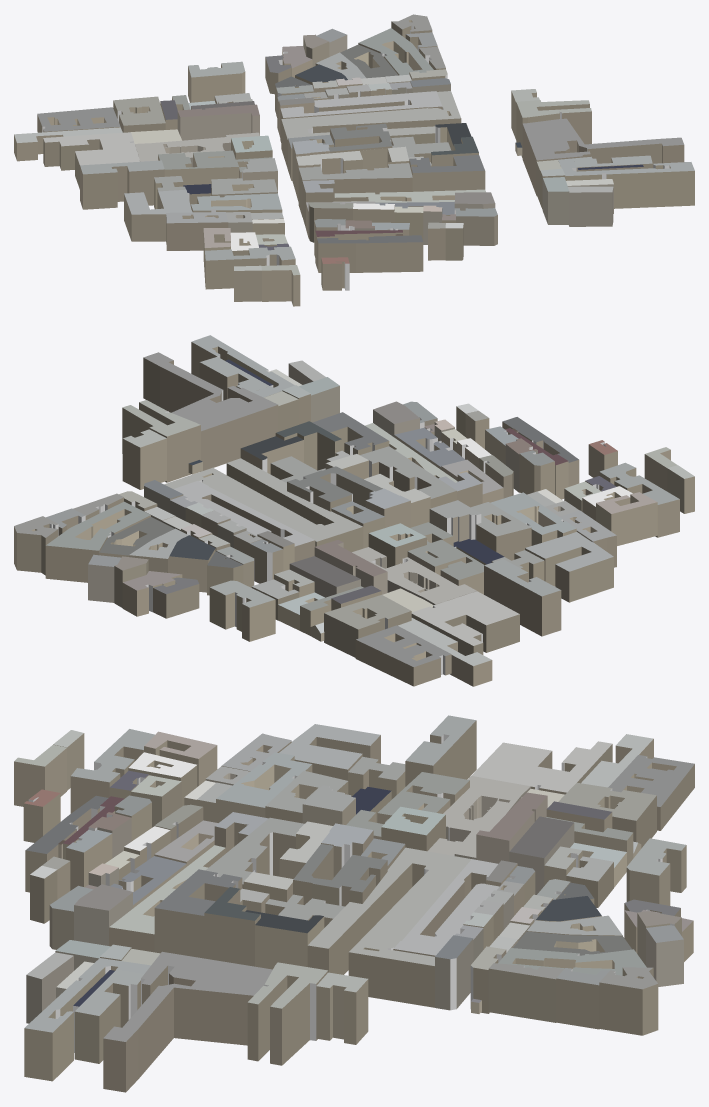
3 views of the same model, one above another, from view 1: azimuth 30°, elevation 25°; view 2: azimuth 150°, elevation 25°; view 3: azimuth 270°, elevation 25° (orthographic). The views are drawn at different scales.
Visible parts, largest first — view 1: tuile; view 2: tuile; view 3: tuile.
Boxes of the visible parts, left/top/right/bottom form: tuile: left=14, top=14, right=694, bottom=306; tuile: left=14, top=335, right=694, bottom=686; tuile: left=14, top=715, right=694, bottom=1092.
Size of the model in its own units: 308 by 28.28 by 267.
